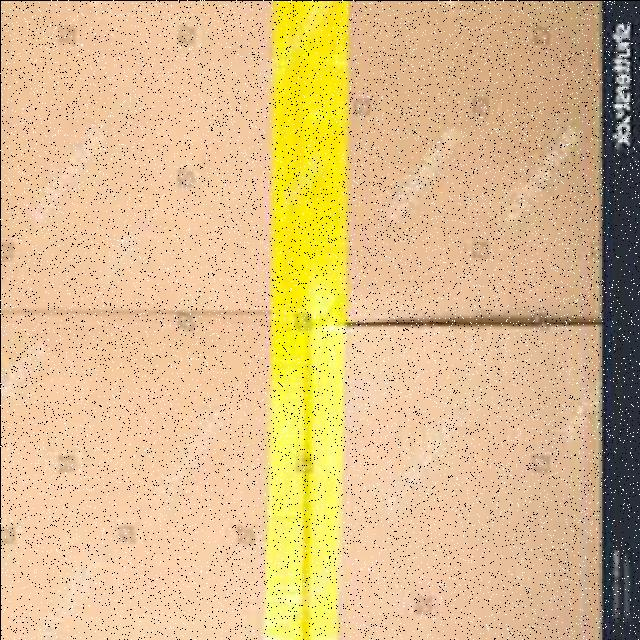normal: (12, 6, 588, 638)
